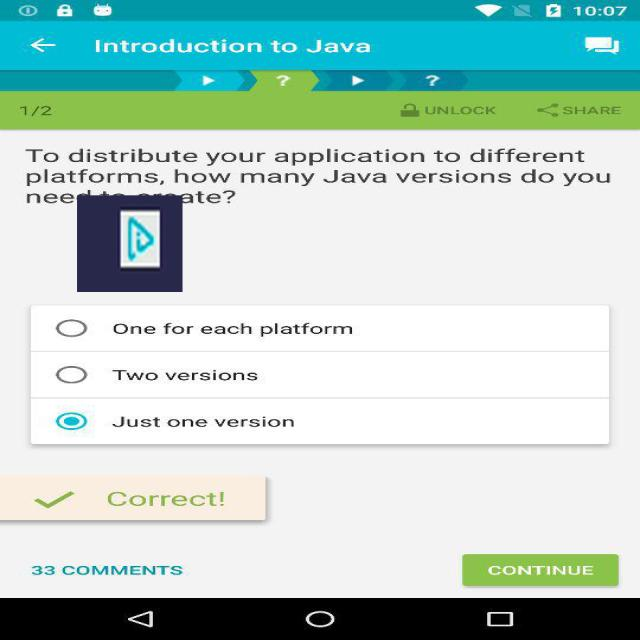sneaking: (77, 195, 183, 292)
